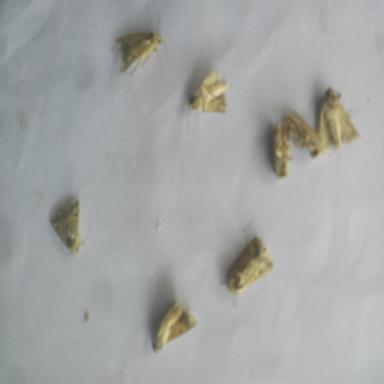abw: (113, 4, 177, 82), (219, 231, 278, 308), (310, 80, 363, 155), (148, 292, 199, 359), (46, 191, 94, 262), (280, 103, 326, 166), (183, 63, 232, 120), (266, 116, 298, 184)
